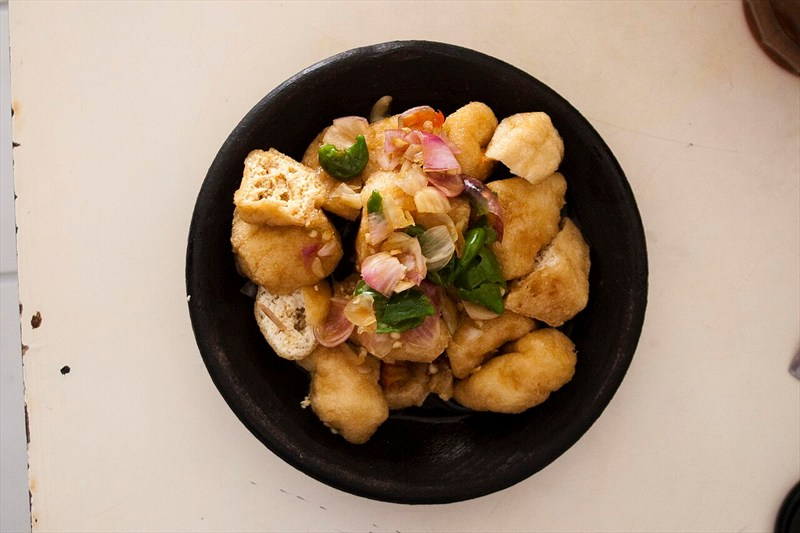Tahu Goreng: (192, 70, 638, 472)
